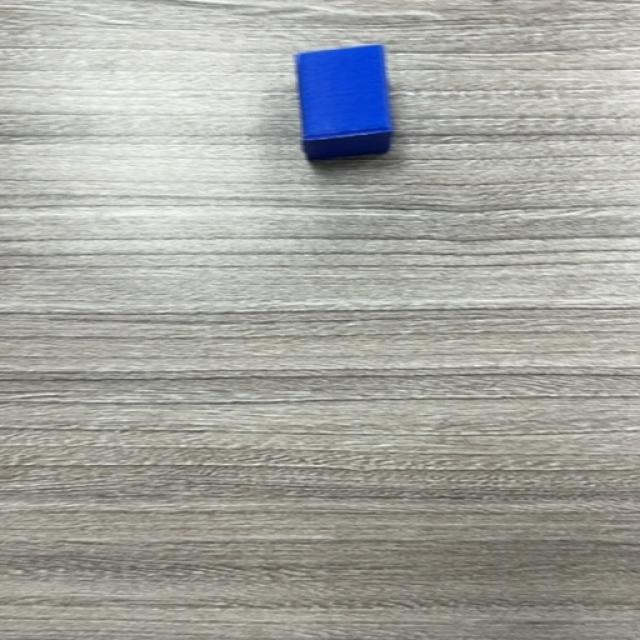Azul: (295, 45, 395, 161)
